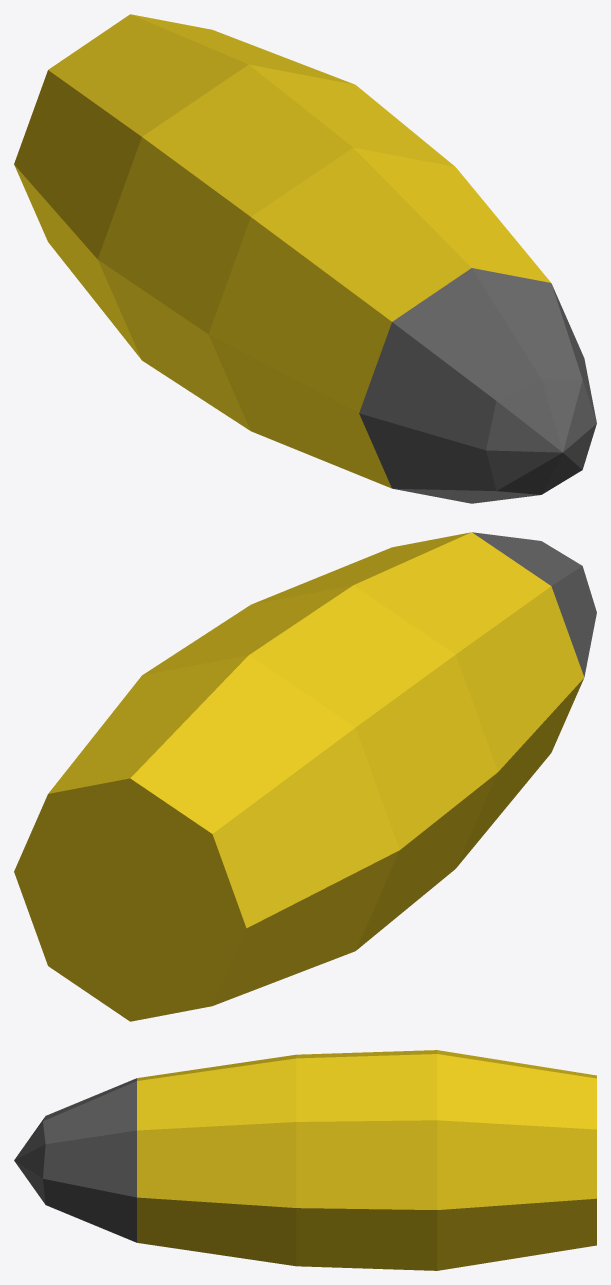
The model's file is Bullet.fbx.
3 renders of one model, top to bottom at view 1: azimuth 30°, elevation 25°; view 2: azimuth 150°, elevation 25°; view 3: azimuth 270°, elevation 25°, orthographic. The views are drawn at different scales.
Visible parts, largest first — view 1: Circle.007; view 2: Circle.007; view 3: Circle.007.
Boxes of the visible parts, left/top/right/bottom form: Circle.007: left=14, top=14, right=596, bottom=503; Circle.007: left=14, top=532, right=596, bottom=1021; Circle.007: left=14, top=1050, right=596, bottom=1270.
Bounding box in the file's own units: 17.43 × 17.43 × 43.23.
